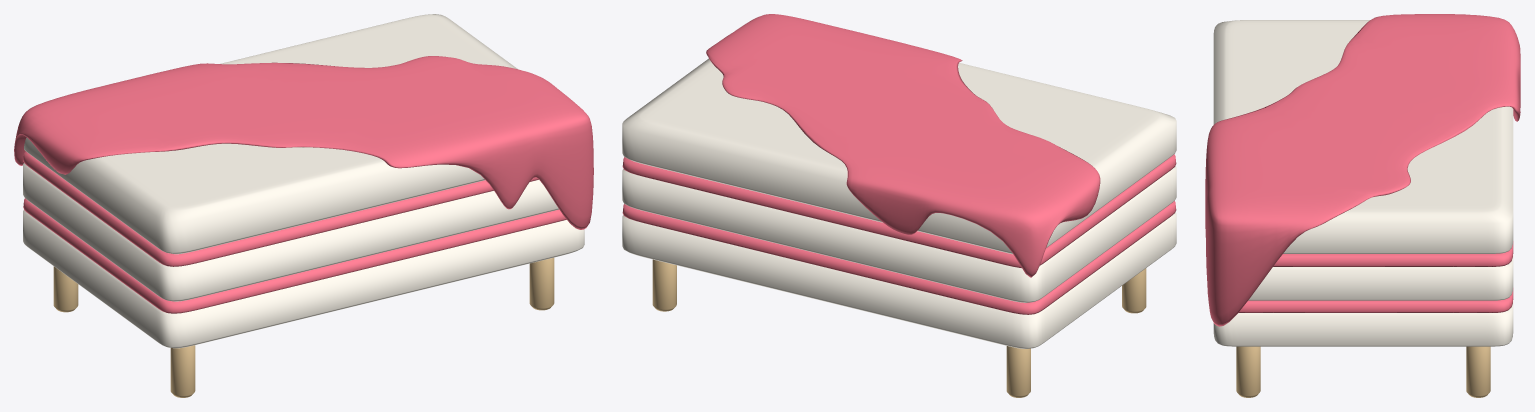
Rendered from table.fbx.
3 renders of one model, left to right at view 1: azimuth 30°, elevation 25°; view 2: azimuth 150°, elevation 25°; view 3: azimuth 270°, elevation 25°, orthographic.
Visible parts, largest first — view 1: Cube.005, Cube, Cube.003, Cube.002, Cube.001, Cube.004, Cylinder, Cylinder.002, Cylinder.001; view 2: Cube.005, Cube, Cube.003, Cube.002, Cube.001, Cube.004, Cylinder.001, Cylinder.003, Cylinder; view 3: Cube.005, Cube, Cube.003, Cube.002, Cube.001, Cube.004, Cylinder.002, Cylinder.003.
Part boxes in pixels (left/top/right/bottom): Cube.005: left=14, top=56, right=593, bottom=229; Cube: left=24, top=14, right=517, bottom=254; Cube.003: left=23, top=210, right=584, bottom=348; Cube.002: left=23, top=163, right=559, bottom=301; Cube.001: left=23, top=198, right=566, bottom=313; Cube.004: left=23, top=151, right=538, bottom=266; Cylinder: left=170, top=345, right=195, bottom=397; Cylinder.002: left=529, top=257, right=554, bottom=310; Cylinder.001: left=53, top=266, right=78, bottom=312; Cube.005: left=706, top=14, right=1100, bottom=277; Cube: left=622, top=58, right=1176, bottom=254; Cube.003: left=622, top=212, right=1176, bottom=348; Cube.002: left=622, top=166, right=1176, bottom=302; Cube.001: left=622, top=201, right=1176, bottom=314; Cube.004: left=622, top=154, right=1176, bottom=268; Cylinder.001: left=1006, top=346, right=1030, bottom=397; Cylinder.003: left=652, top=259, right=676, bottom=311; Cylinder: left=1122, top=268, right=1146, bottom=313; Cube.005: left=1205, top=14, right=1520, bottom=326; Cube: left=1213, top=20, right=1513, bottom=253; Cube.003: left=1213, top=300, right=1513, bottom=346; Cube.002: left=1248, top=254, right=1513, bottom=300; Cube.001: left=1238, top=288, right=1513, bottom=312; Cube.004: left=1273, top=241, right=1513, bottom=266; Cylinder.002: left=1236, top=346, right=1260, bottom=397; Cylinder.003: left=1466, top=346, right=1490, bottom=397.
Bounding box in the file's own units: 607 × 261 × 380.
